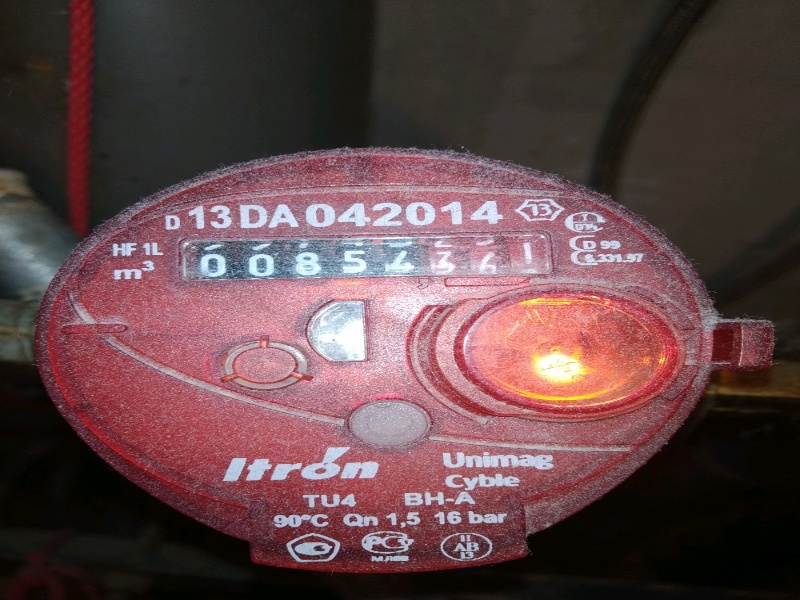meter: (186, 236, 548, 274)
